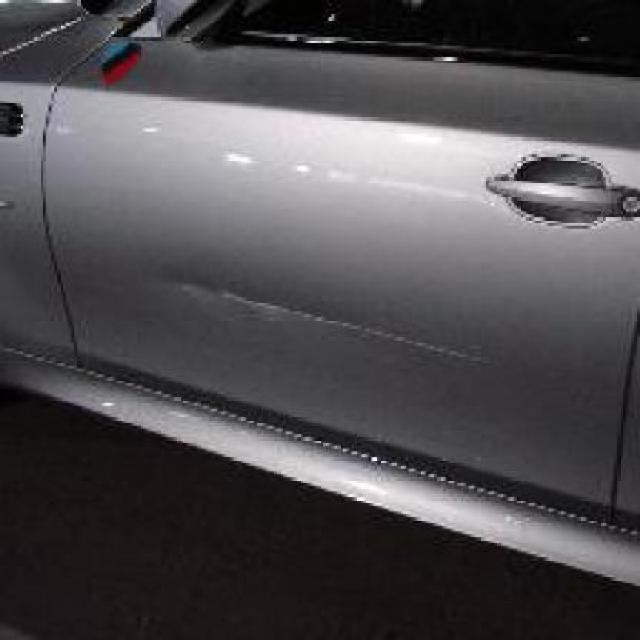dent-or-scratch: (138, 242, 520, 378)
